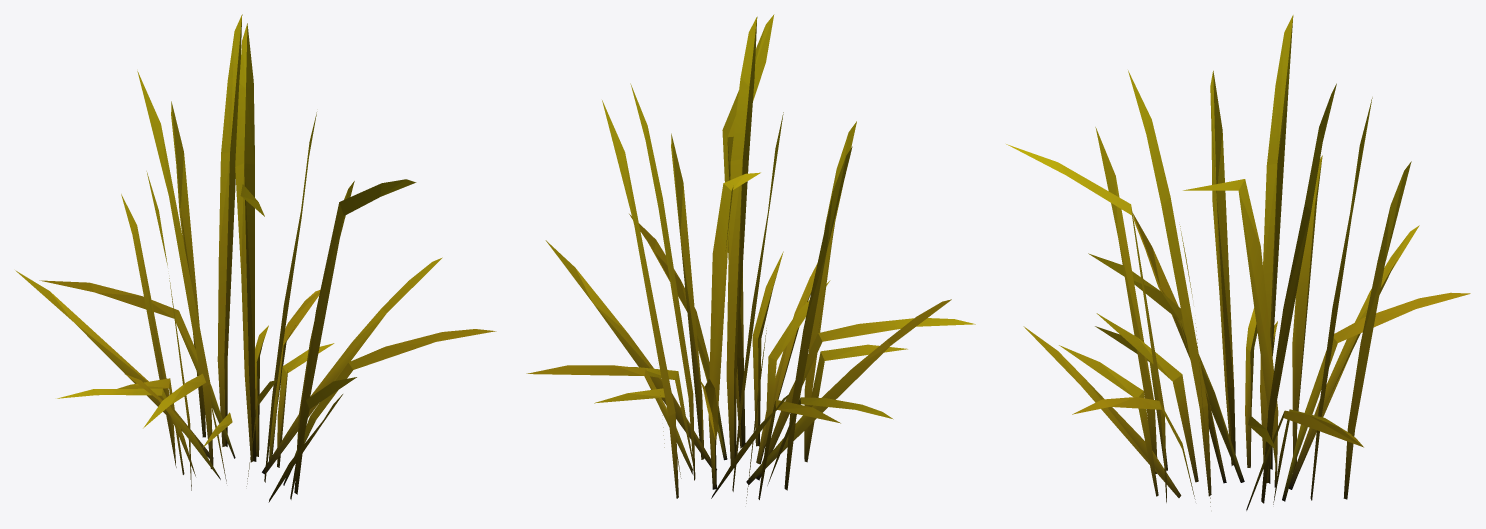
File: grass-wispy.glb
3 views of the same model, side by side, from view 1: azimuth 30°, elevation 25°; view 2: azimuth 150°, elevation 25°; view 3: azimuth 270°, elevation 25° (orthographic). The views are drawn at different scales.
Visible parts, largest first — view 1: Grass_Wispy_Tall; view 2: Grass_Wispy_Tall; view 3: Grass_Wispy_Tall.
Part boxes in pixels (x1,y1,x2,y2): Grass_Wispy_Tall: (15, 14, 496, 502); Grass_Wispy_Tall: (526, 14, 975, 503); Grass_Wispy_Tall: (1006, 15, 1470, 510).
Size of the model in its own units: 1.54 by 1.67 by 1.59.
Materials: 1 (1 with a texture image).
